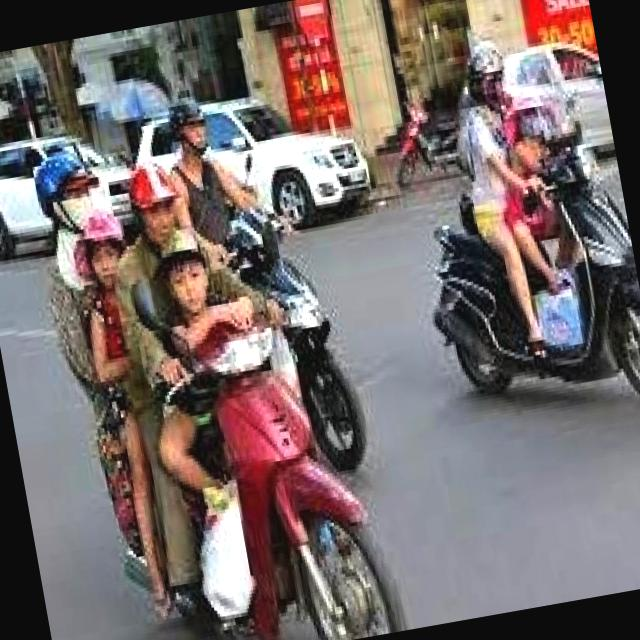motorcycle: (70, 283, 413, 640), (402, 124, 640, 431)
person: (90, 156, 230, 474), (18, 141, 148, 429), (58, 196, 170, 486), (140, 223, 251, 487), (440, 41, 542, 302), (486, 96, 582, 286)
rider_region: (383, 30, 640, 436)
